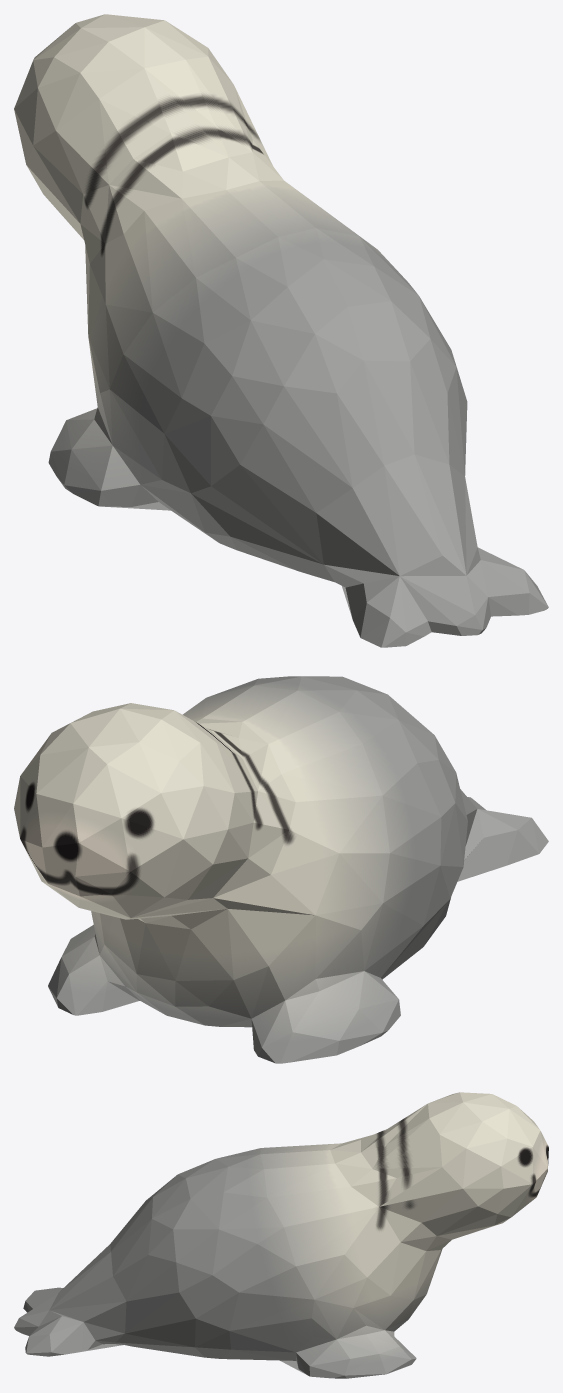
The model's file is animal_seal_blob.obj.
The picture shows the model from 3 angles, top to bottom: view 1: azimuth 30°, elevation 25°; view 2: azimuth 150°, elevation 25°; view 3: azimuth 270°, elevation 25°; orthographic projection. The views are drawn at different scales.
Parts seen in each view (by area): view 1: animal_seal_blob; view 2: animal_seal_blob; view 3: animal_seal_blob.
Boxes of the visible parts, x1,y1,x2,y2 form: animal_seal_blob: [14, 14, 548, 647]; animal_seal_blob: [14, 676, 548, 1063]; animal_seal_blob: [14, 1092, 548, 1378].
Bounding box in the file's own units: 0.5316 × 0.564 × 1.19.
